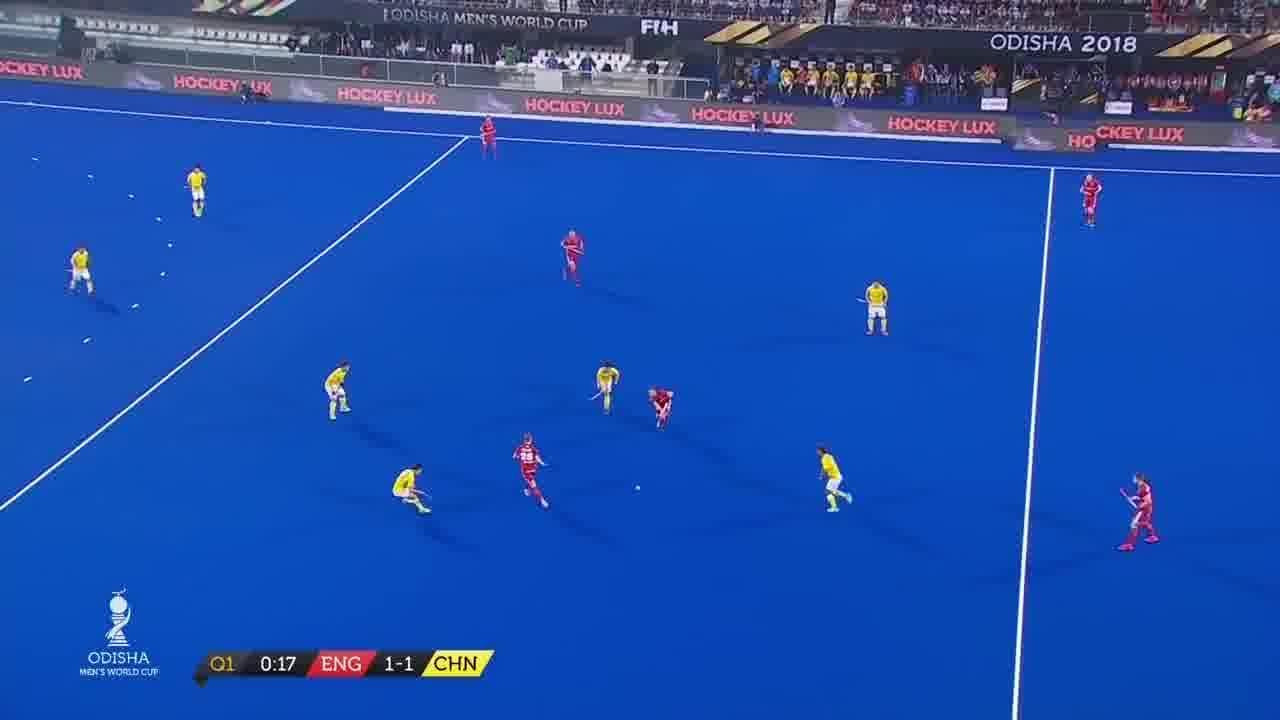ball: (629, 476, 644, 502)
